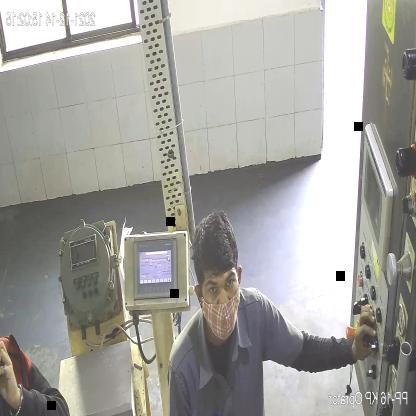no_goggles: (204, 269, 238, 302)
